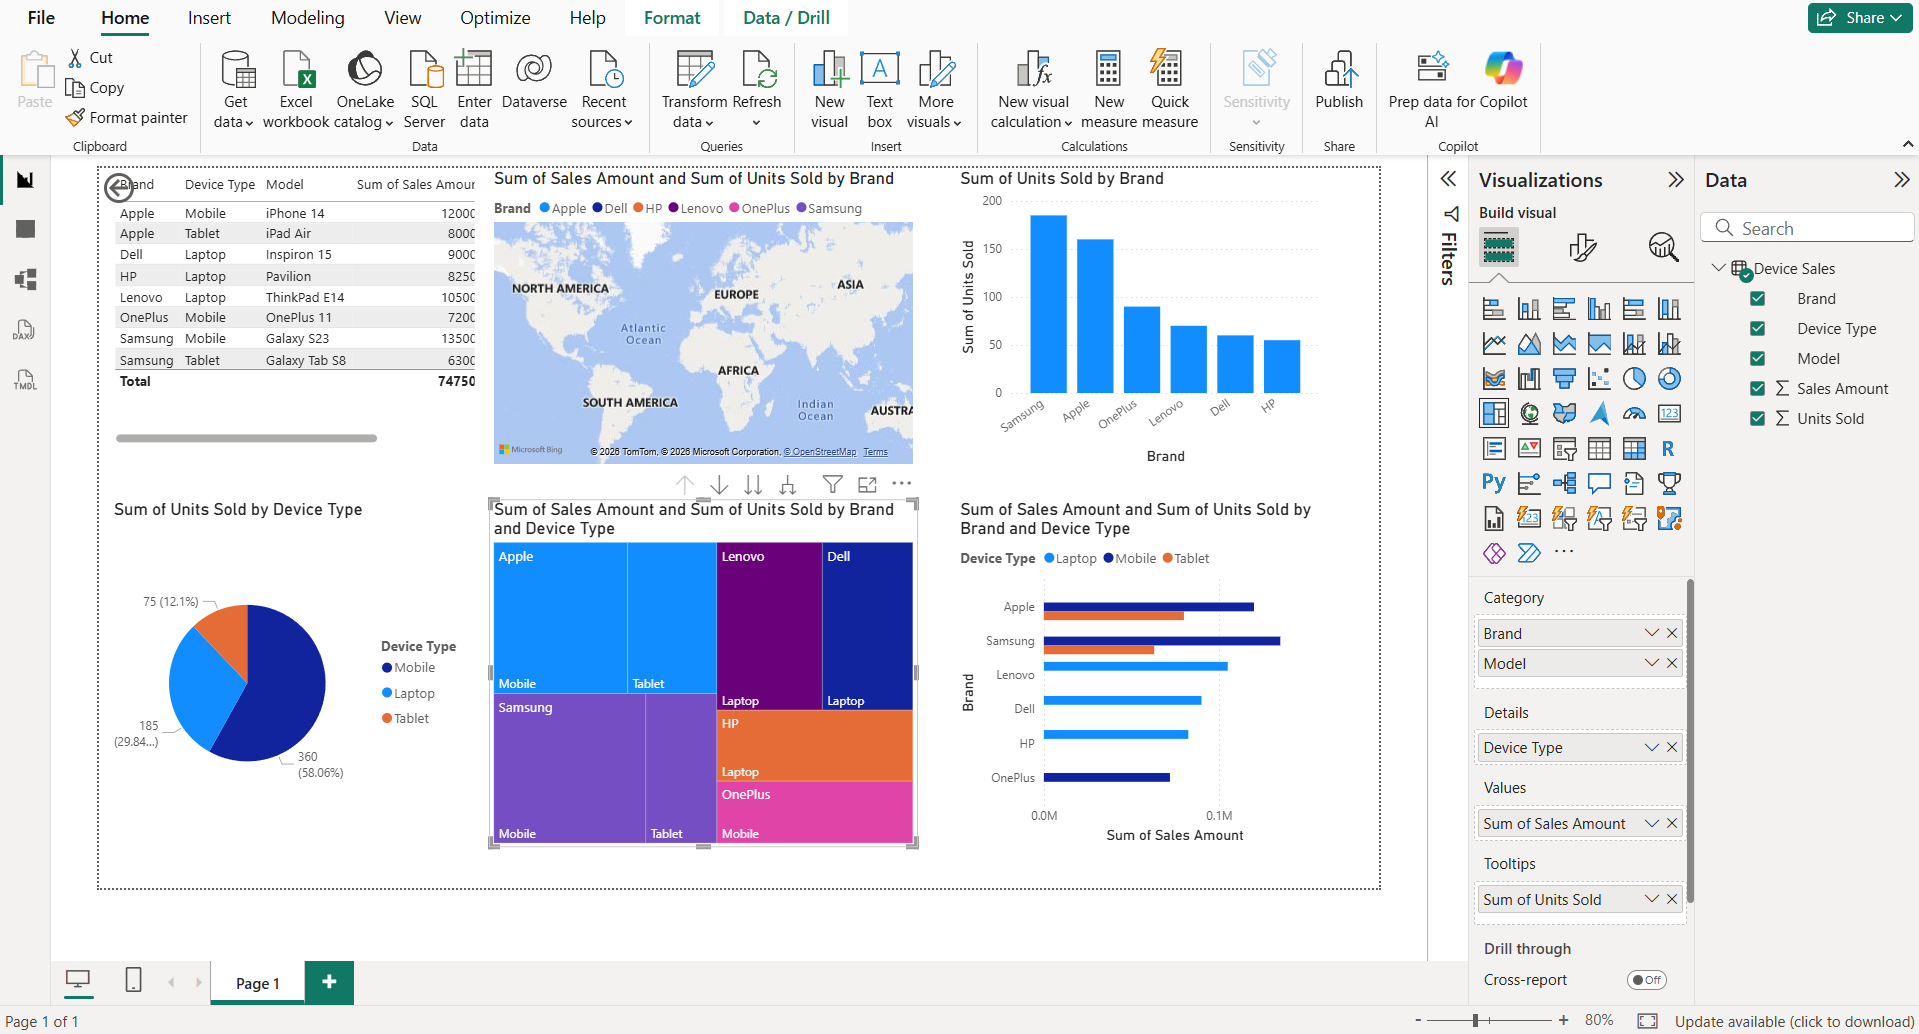

What the dashboard file says about the page in this screenshot:
{"tool":"powerbi","page":{"name":"Page 1","canvas":[1280,720],"ordinal":0},"visuals":[{"type":"tableEx","fields":{"Values":["Device Sales.Brand","Device Sales.Device Type","Device Sales.Model","Sum(Device Sales.Sales Amount)","Sum(Device Sales.Units Sold)"]},"box":[9.6,0,370.5,279.9],"z":0},{"type":"actionButton","box":[0,0,100,40],"z":1000},{"type":"clusteredBarChart","fields":{"Category":["Device Sales.Brand"],"Series":["Device Sales.Device Type"],"Y":["Sum(Device Sales.Sales Amount)"]},"box":[856.3,330.7,370.5,348.5],"z":3000},{"type":"pieChart","fields":{"Category":["Device Sales.Device Type"],"Y":["Sum(Device Sales.Units Sold)"]},"box":[10,331,370,349],"z":3001},{"type":"filledMap","fields":{"Series":["Device Sales.Brand"]},"box":[389.5,0,429.1,301.2],"z":3002},{"type":"lineClusteredColumnComboChart","fields":{"Category":["Device Sales.Brand"],"Y":["Sum(Device Sales.Units Sold)"]},"box":[856,0,370,301],"z":3003},{"type":"treemap","fields":{"Group":["Device Sales.Brand","Device Sales.Model"],"Details":["Device Sales.Device Type"],"Values":["Sum(Device Sales.Sales Amount)"]},"box":[390,331,429,349],"z":3004}]}

Visuals, with their boxes on the page's 1280x720 design canvas (x1, y1, x2, y2). These are canvas units, not pixel positions in the 1919x1034 screenshot, which may show the page scaled, cropped or inside an application window:
tableEx - Device Sales.Brand x Device Sales.Device Type: 10, 0, 380, 280
actionButton: 0, 0, 100, 40
clusteredBarChart - Device Sales.Brand x Device Sales.Device Type: 856, 331, 1227, 679
pieChart - Device Sales.Device Type x Sum(Device Sales.Units Sold): 10, 331, 380, 680
filledMap - Device Sales.Brand: 390, 0, 819, 301
lineClusteredColumnComboChart - Device Sales.Brand x Sum(Device Sales.Units Sold): 856, 0, 1226, 301
treemap - Device Sales.Brand x Device Sales.Model: 390, 331, 819, 680
